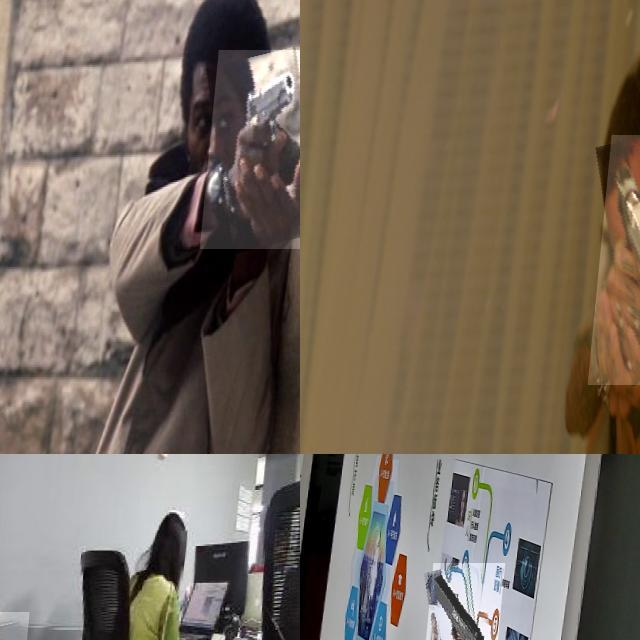-: (0, 612, 40, 640)
gun-knife-thesis - v11 Yolov5 augmented: (207, 49, 300, 249), (596, 135, 640, 384), (427, 562, 509, 640)
